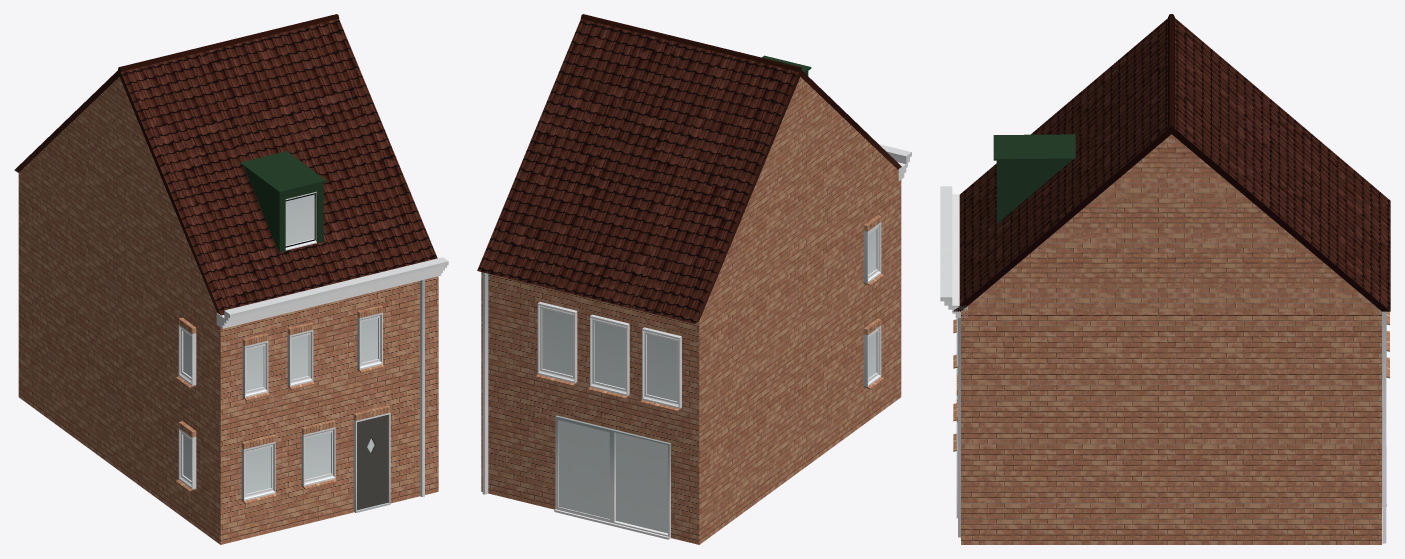
File: Buorkerij_53.fbx
The picture shows the model from 3 angles, left to right: view 1: azimuth 30°, elevation 25°; view 2: azimuth 150°, elevation 25°; view 3: azimuth 270°, elevation 25°; orthographic projection. The views are drawn at different scales.
Visible parts, largest first — view 1: Buorkerij_53; view 2: Buorkerij_53; view 3: Buorkerij_53.
Part boxes in pixels (x1,y1,x2,y2): Buorkerij_53: [14, 14, 448, 544]; Buorkerij_53: [477, 14, 911, 544]; Buorkerij_53: [940, 14, 1390, 544].
Size of the model in its own units: 610 by 1044 by 1015.
